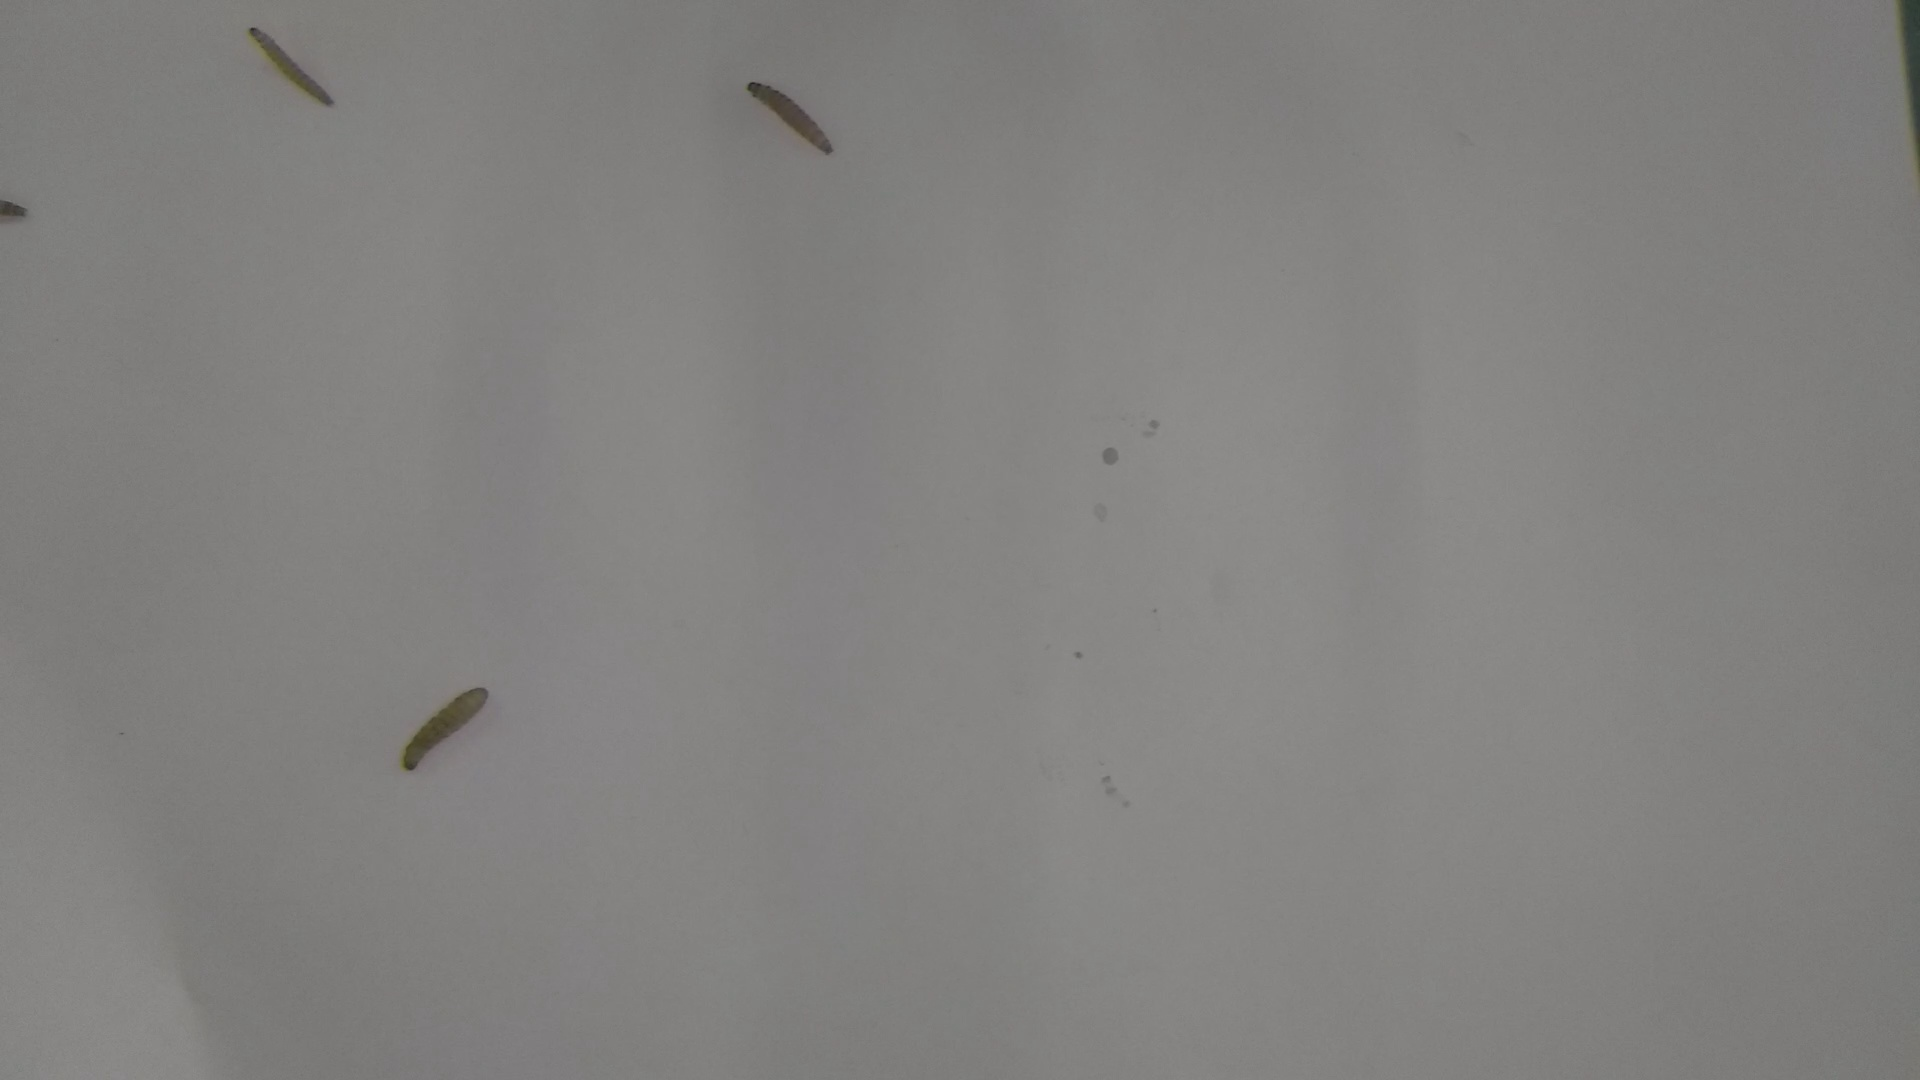efsb: (393, 680, 495, 785), (243, 24, 339, 113), (741, 80, 837, 157)
